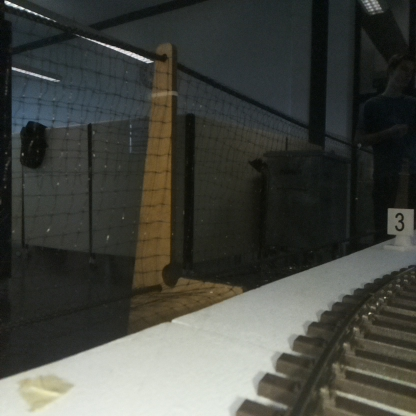white-stop-3: (387, 208, 413, 249)
